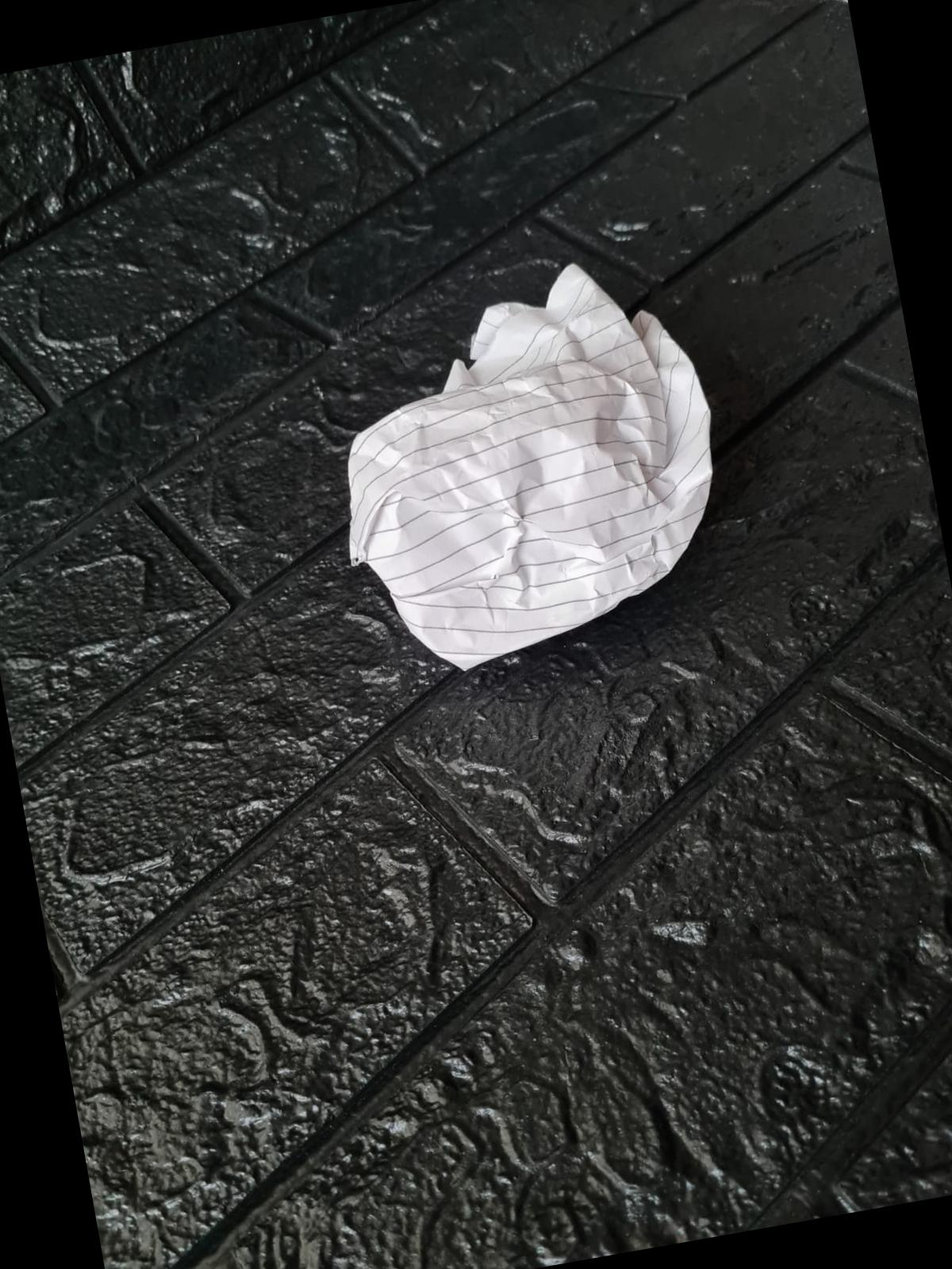Kertas: (349, 265, 711, 668)
